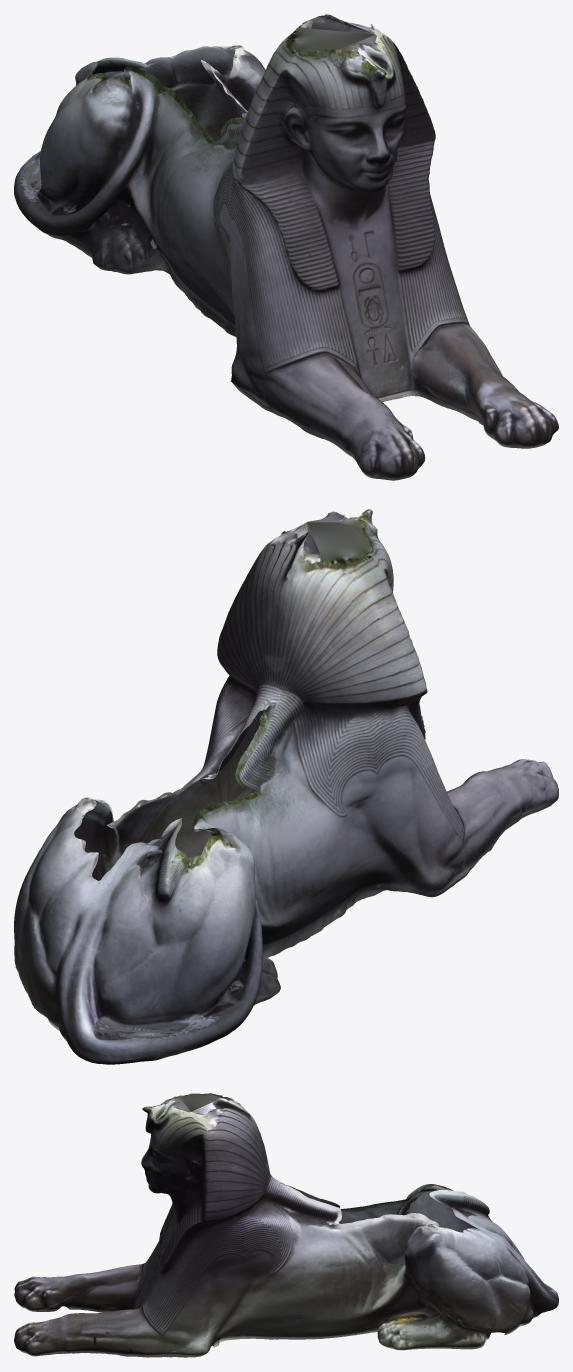
The model's file is sphinx_cleopatras_needle_london.glb.
3 views of the same model, one above another, from view 1: azimuth 30°, elevation 25°; view 2: azimuth 150°, elevation 25°; view 3: azimuth 270°, elevation 25° (orthographic). The views are drawn at different scales.
Visible parts, largest first — view 1: Object_2; view 2: Object_2; view 3: Object_2.
Part boxes in pixels (x1,y1,x2,y2): Object_2: (14,14,558,480); Object_2: (14,509,558,1064); Object_2: (14,1093,558,1357).
Size of the model in its own units: 0.3043 by 0.4556 by 0.9726.
Materials: 1 (1 with a texture image).
